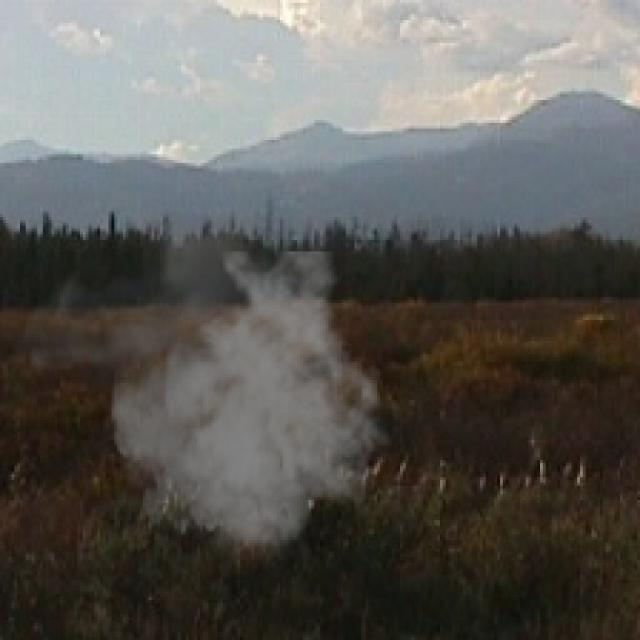smoke: (11, 206, 392, 574)
